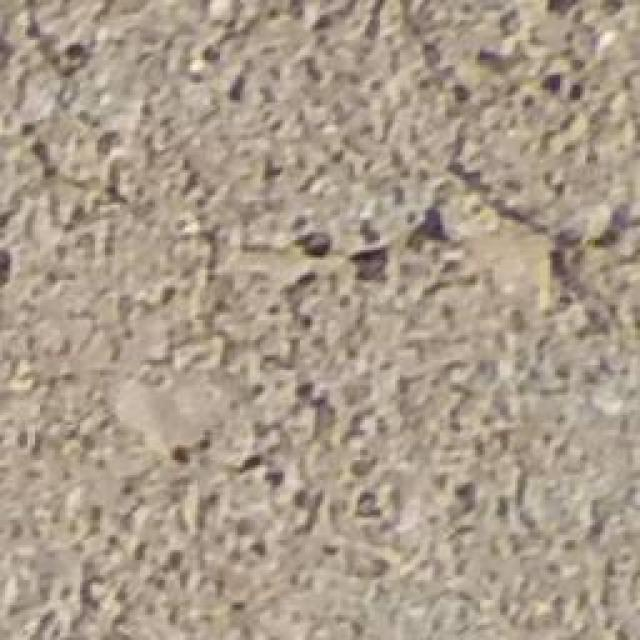concrete-crack: (0, 4, 628, 335)
